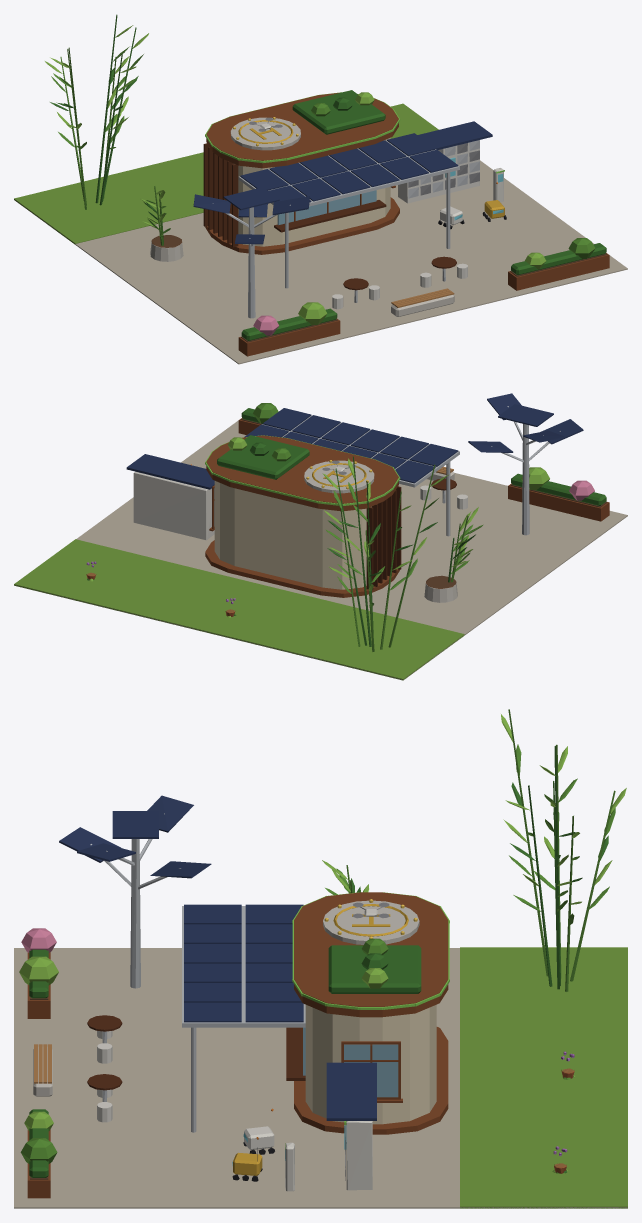
Rendered from shop_1.glb.
3 renders of one model, top to bottom at view 1: azimuth 30°, elevation 25°; view 2: azimuth 150°, elevation 25°; view 3: azimuth 270°, elevation 25°, orthographic. The views are drawn at different scales.
Visible parts, largest first — view 1: body, windows; view 2: body, windows; view 3: body, windows.
Boxes of the visible parts, x1,y1,x2,y2 form: body: (14,14,627,364); windows: (205,92,504,220); body: (14,393,627,680); windows: (205,435,400,505); body: (14,709,627,1208); windows: (232,892,449,1165).
Bounding box in the file's own units: 15.9 × 7.48 × 15.9.
